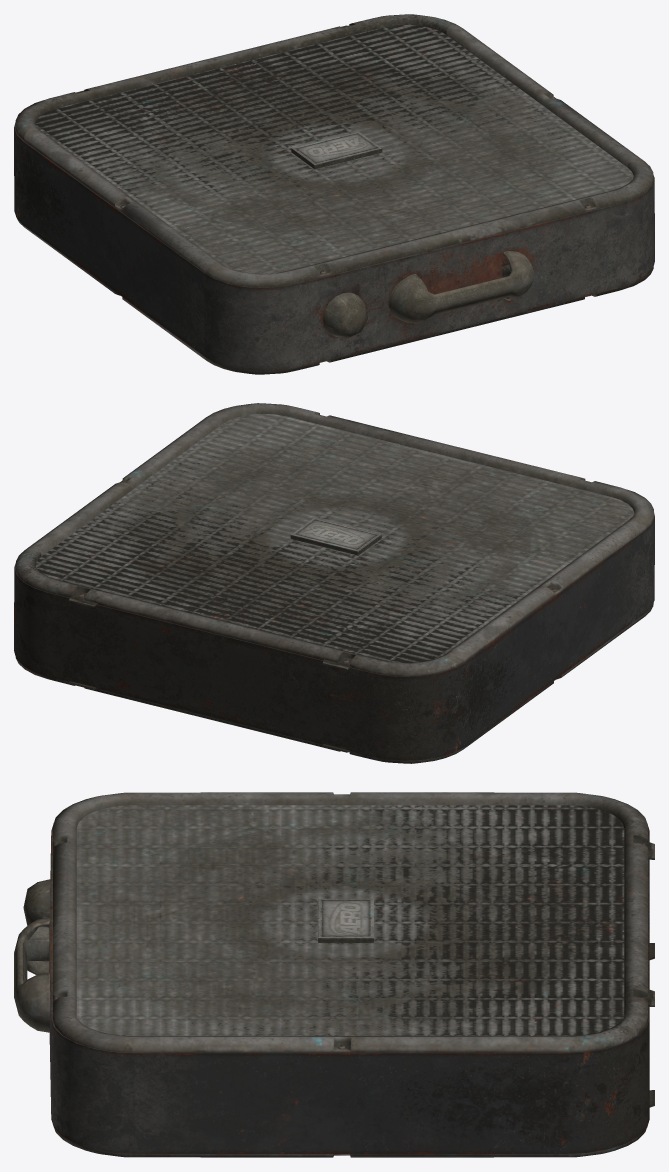
The model's file is garage.obj.
3 renders of one model, top to bottom at view 1: azimuth 30°, elevation 25°; view 2: azimuth 150°, elevation 25°; view 3: azimuth 270°, elevation 25°, orthographic. The views are drawn at different scales.
Parts seen in each view (by area): view 1: desirefx_me_002; view 2: desirefx_me_002; view 3: desirefx_me_002.
Part boxes in pixels (<box>): desirefx_me_002: <box>14,14,654,374</box>; desirefx_me_002: <box>14,403,654,763</box>; desirefx_me_002: <box>14,792,654,1157</box>.
Bounding box in the file's own units: 6.77 × 1.46 × 7.08.
Materials: 1 (1 with a texture image).
